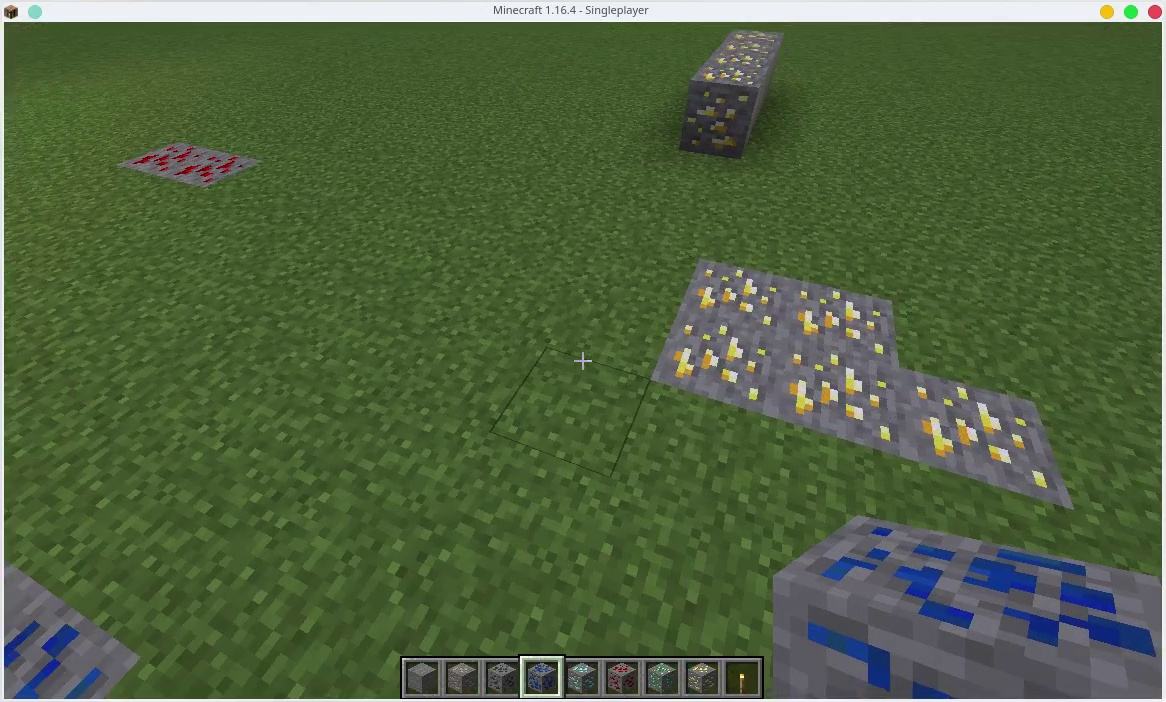gold: (901, 386, 1060, 495), (655, 328, 773, 418), (795, 350, 889, 444), (684, 263, 784, 329), (790, 292, 899, 352), (683, 69, 755, 146), (688, 661, 721, 692), (710, 52, 767, 68), (731, 29, 781, 42), (724, 42, 771, 51)
